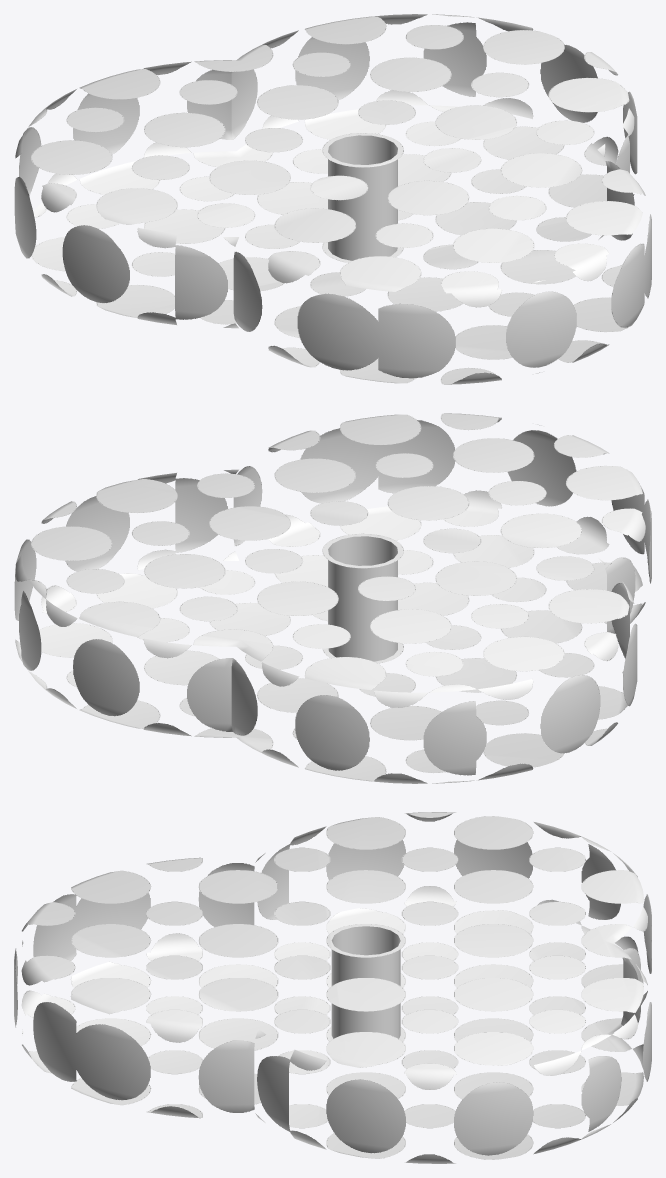
3 views of the same model, one above another, from view 1: azimuth 30°, elevation 25°; view 2: azimuth 150°, elevation 25°; view 3: azimuth 270°, elevation 25° (orthographic). The views are drawn at different scales.
Parts seen in each view (by area): view 1: CloverOriginal.011; view 2: CloverOriginal.011; view 3: CloverOriginal.011.
Boxes of the visible parts, box(x1,y1,x2,y2) form: CloverOriginal.011: box(14, 14, 651, 384); CloverOriginal.011: box(14, 413, 651, 783); CloverOriginal.011: box(14, 812, 651, 1163).
Size of the model in its own units: 434 by 70.83 by 434.
